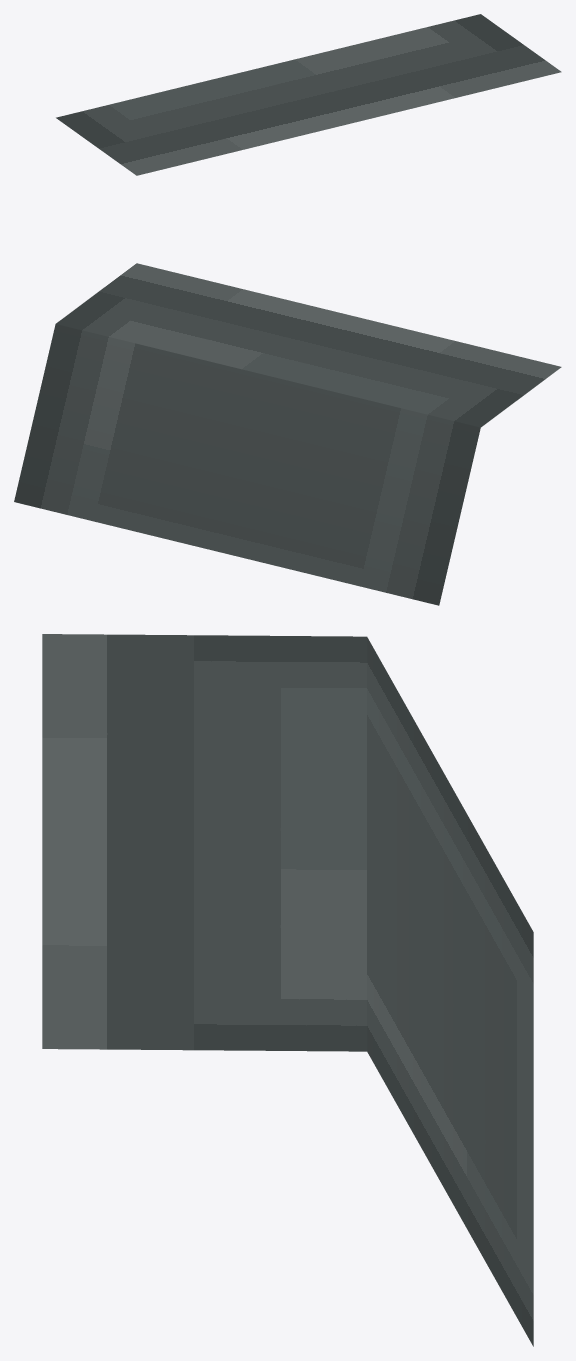
3 views of the same model, one above another, from view 1: azimuth 30°, elevation 25°; view 2: azimuth 150°, elevation 25°; view 3: azimuth 270°, elevation 25° (orthographic). The views are drawn at different scales.
Size of the model in its own units: 1 by 0.3348 by 0.5.
Materials: 1 (1 with a texture image).
